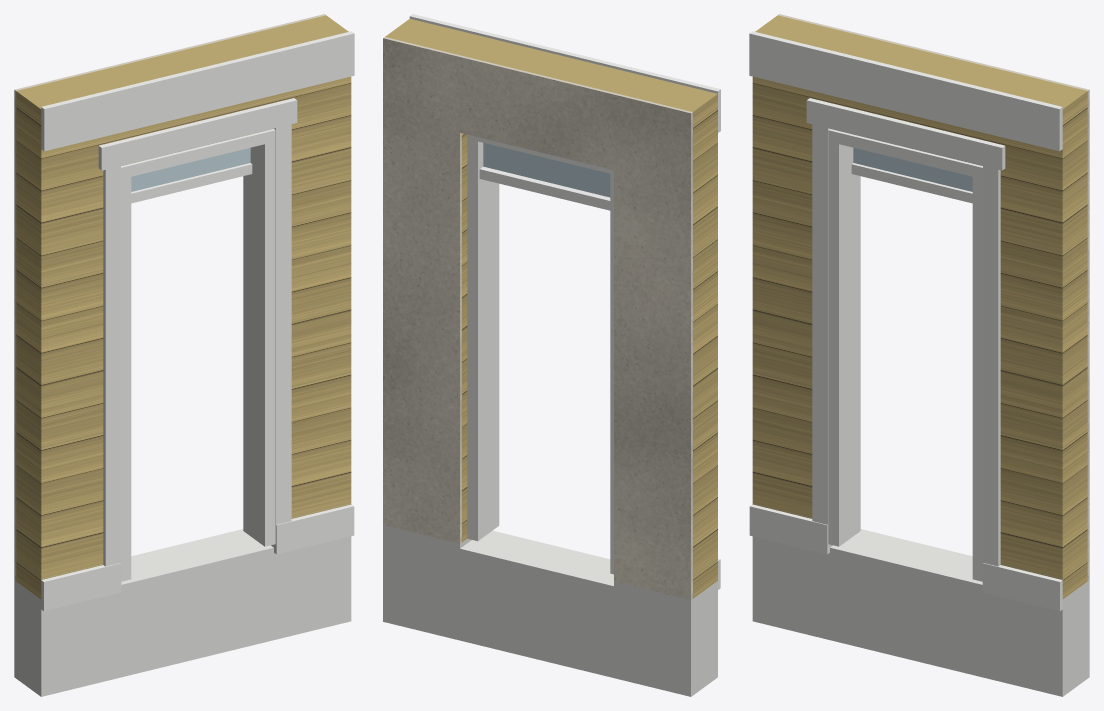
The model's file is wall_b_door_back.glb.
3 renders of one model, left to right at view 1: azimuth 30°, elevation 25°; view 2: azimuth 150°, elevation 25°; view 3: azimuth 330°, elevation 25°, orthographic.
Visible parts, largest first — view 1: wall_b_door_back_siding_b, wall_b_door_back_trim, wall_b_door_back_lattice, wall_b_door_back_frame, wall_b_door_back_plaster, wall_b_door_back_glass; view 2: wall_b_door_back_plaster, wall_b_door_back_lattice, wall_b_door_back_siding_b, wall_b_door_back_frame, wall_b_door_back_glass, wall_b_door_back_trim; view 3: wall_b_door_back_siding_b, wall_b_door_back_trim, wall_b_door_back_lattice, wall_b_door_back_frame, wall_b_door_back_plaster, wall_b_door_back_glass.
Part boxes in pixels (x1,y1,x2,y2): wall_b_door_back_siding_b: [16, 15, 351, 599]; wall_b_door_back_trim: [41, 31, 354, 611]; wall_b_door_back_lattice: [14, 529, 351, 696]; wall_b_door_back_frame: [121, 129, 275, 581]; wall_b_door_back_plaster: [14, 14, 325, 580]; wall_b_door_back_glass: [131, 147, 250, 191]; wall_b_door_back_plaster: [383, 37, 692, 599]; wall_b_door_back_lattice: [383, 525, 717, 696]; wall_b_door_back_siding_b: [385, 19, 717, 598]; wall_b_door_back_frame: [467, 134, 613, 574]; wall_b_door_back_glass: [483, 143, 610, 197]; wall_b_door_back_trim: [409, 14, 720, 589]; wall_b_door_back_siding_b: [752, 15, 1087, 599]; wall_b_door_back_trim: [749, 31, 1062, 611]; wall_b_door_back_lattice: [752, 529, 1089, 696]; wall_b_door_back_frame: [828, 129, 982, 581]; wall_b_door_back_plaster: [778, 14, 1089, 580]; wall_b_door_back_glass: [853, 147, 972, 191].
Bounding box in the file's own units: 2 × 3.63 × 0.335.
6 materials, 2 textured.
